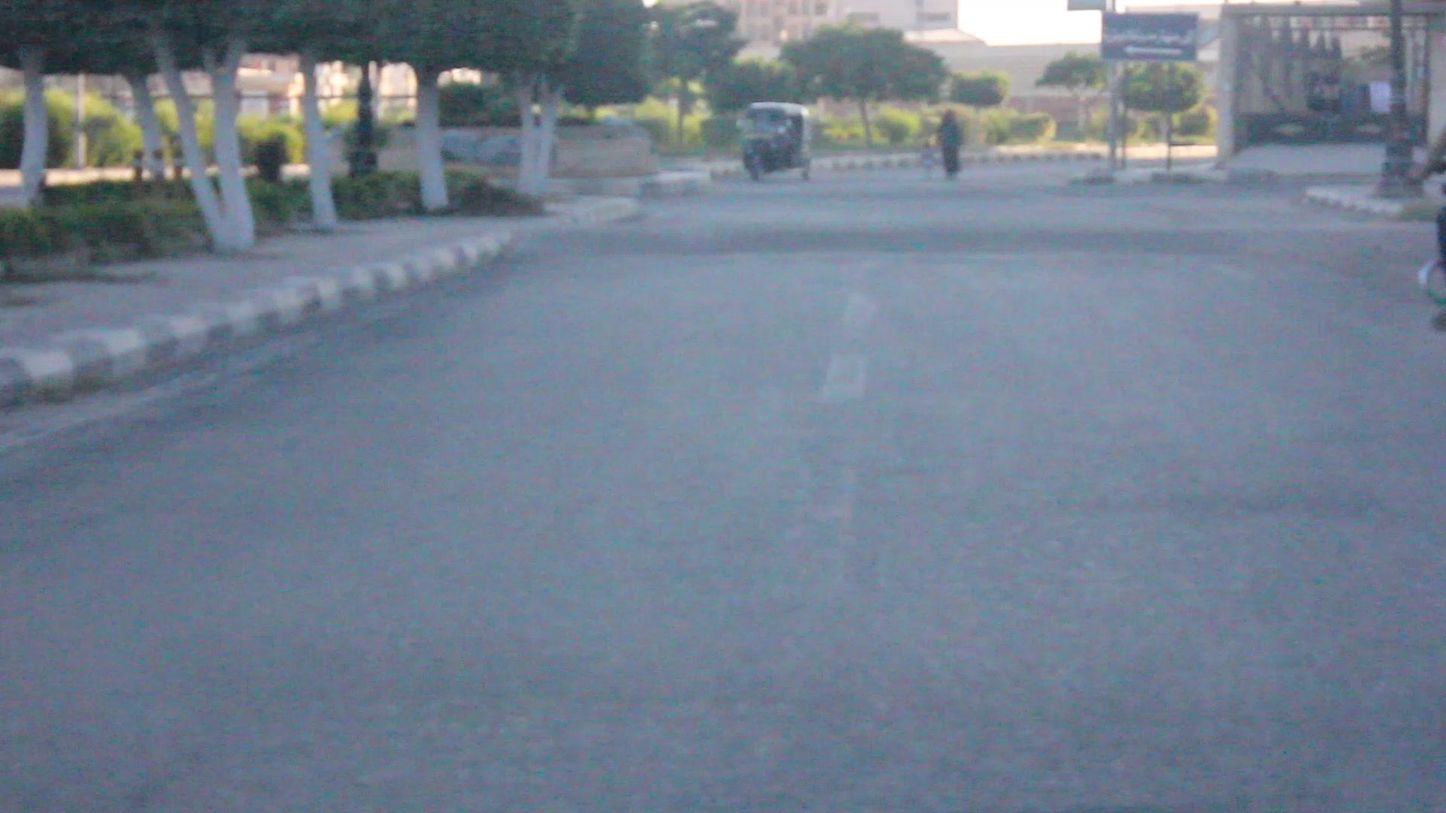Bump: (540, 226, 1412, 269)
